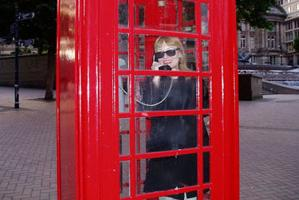person: (135, 32, 217, 200)
